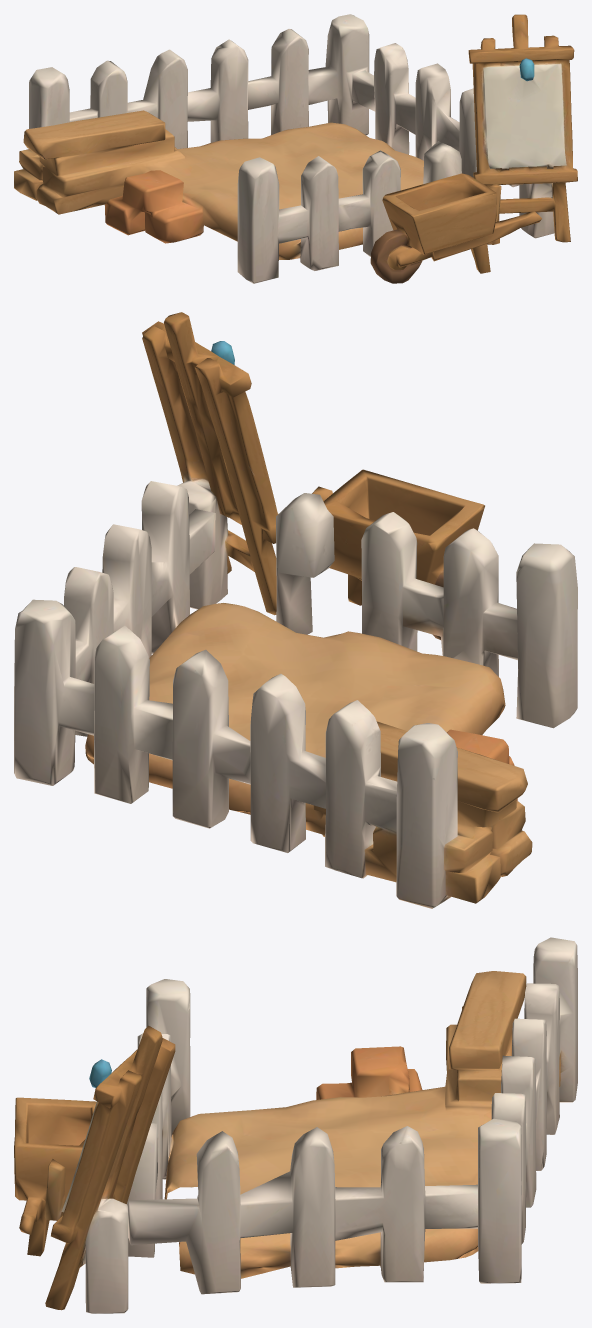
The model's file is chantier.glb.
The picture shows the model from 3 angles, top to bottom: view 1: azimuth 30°, elevation 25°; view 2: azimuth 150°, elevation 25°; view 3: azimuth 270°, elevation 25°; orthographic projection. The views are drawn at different scales.
Parts seen in each view (by area): view 1: tripo_node_4a02a033-d2ae-4d37-a816-aa0a456c4957; view 2: tripo_node_4a02a033-d2ae-4d37-a816-aa0a456c4957; view 3: tripo_node_4a02a033-d2ae-4d37-a816-aa0a456c4957.
Part boxes in pixels (box(x1,y1,x2,y2)): tripo_node_4a02a033-d2ae-4d37-a816-aa0a456c4957: box(14, 14, 577, 283); tripo_node_4a02a033-d2ae-4d37-a816-aa0a456c4957: box(14, 312, 577, 908); tripo_node_4a02a033-d2ae-4d37-a816-aa0a456c4957: box(14, 937, 577, 1313).
Size of the model in its own units: 1 by 0.4971 by 0.921.
1 material, 1 textured.
